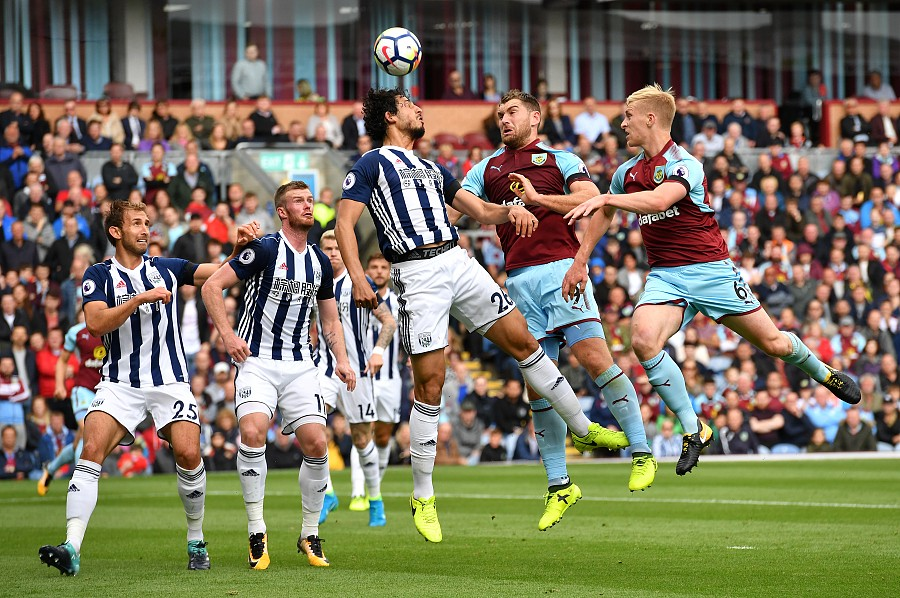ball: (372, 26, 423, 77)
